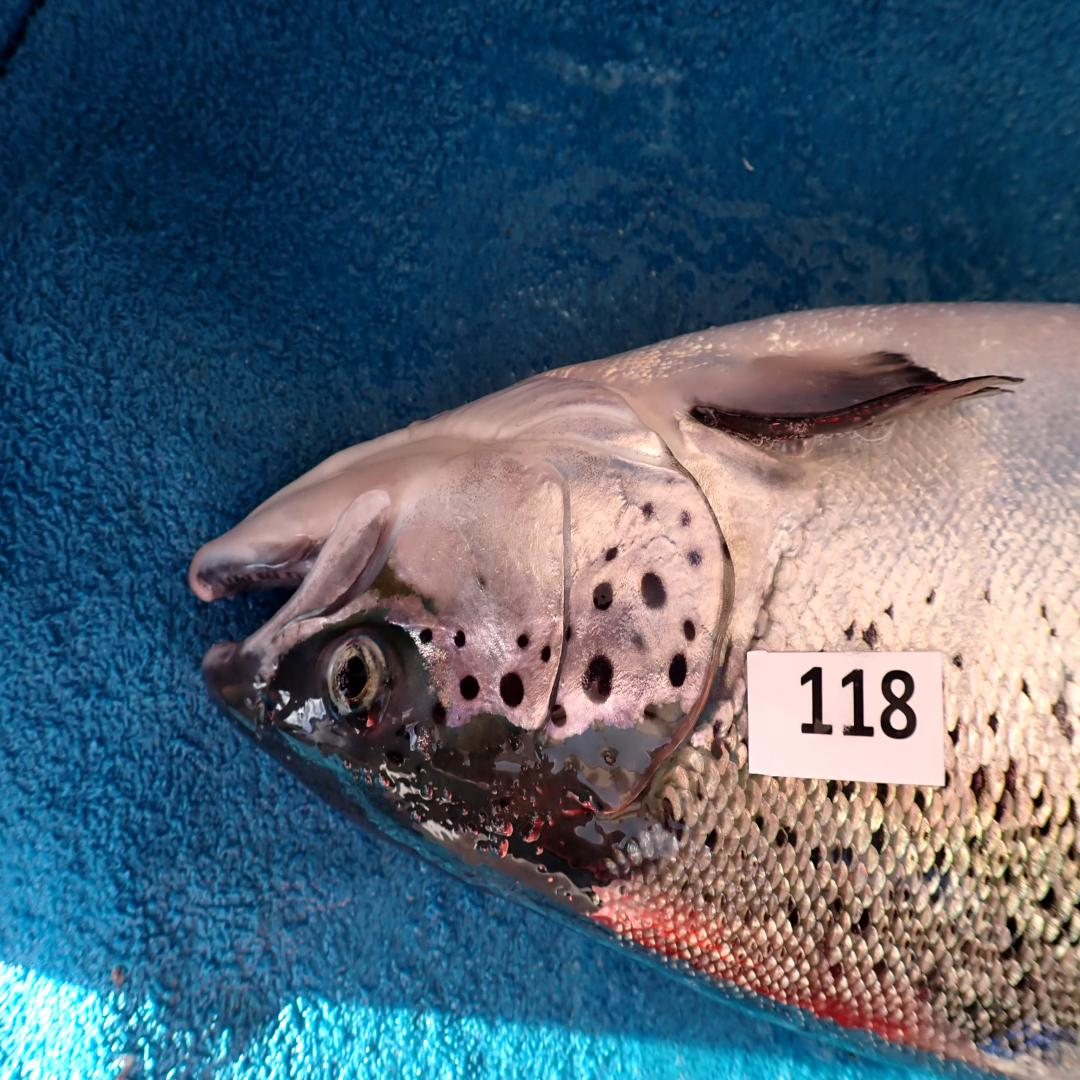roi: (399, 368, 732, 739)
